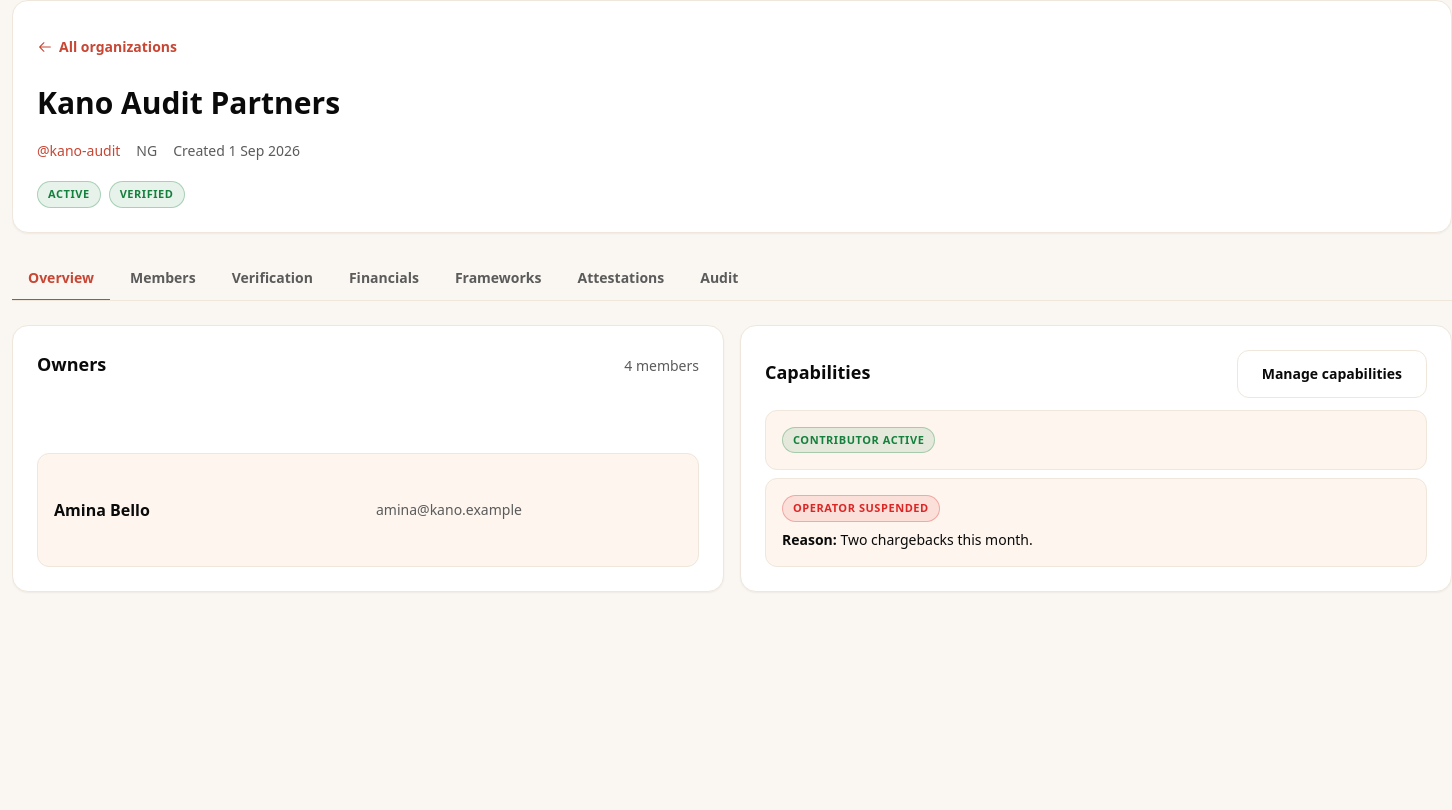
Test: AdminOrganizationDetailPage › lists frameworks with explore links only when published, and licenses
This screenshot has width=1452, height=810.
Check: the heading "Kano Audit Partners" is shown, box top-left (37, 82), bottom-right (340, 123)
Click the tab "Frameworks". click: [498, 278]
box: top-left (439, 256), bottom-right (558, 300)
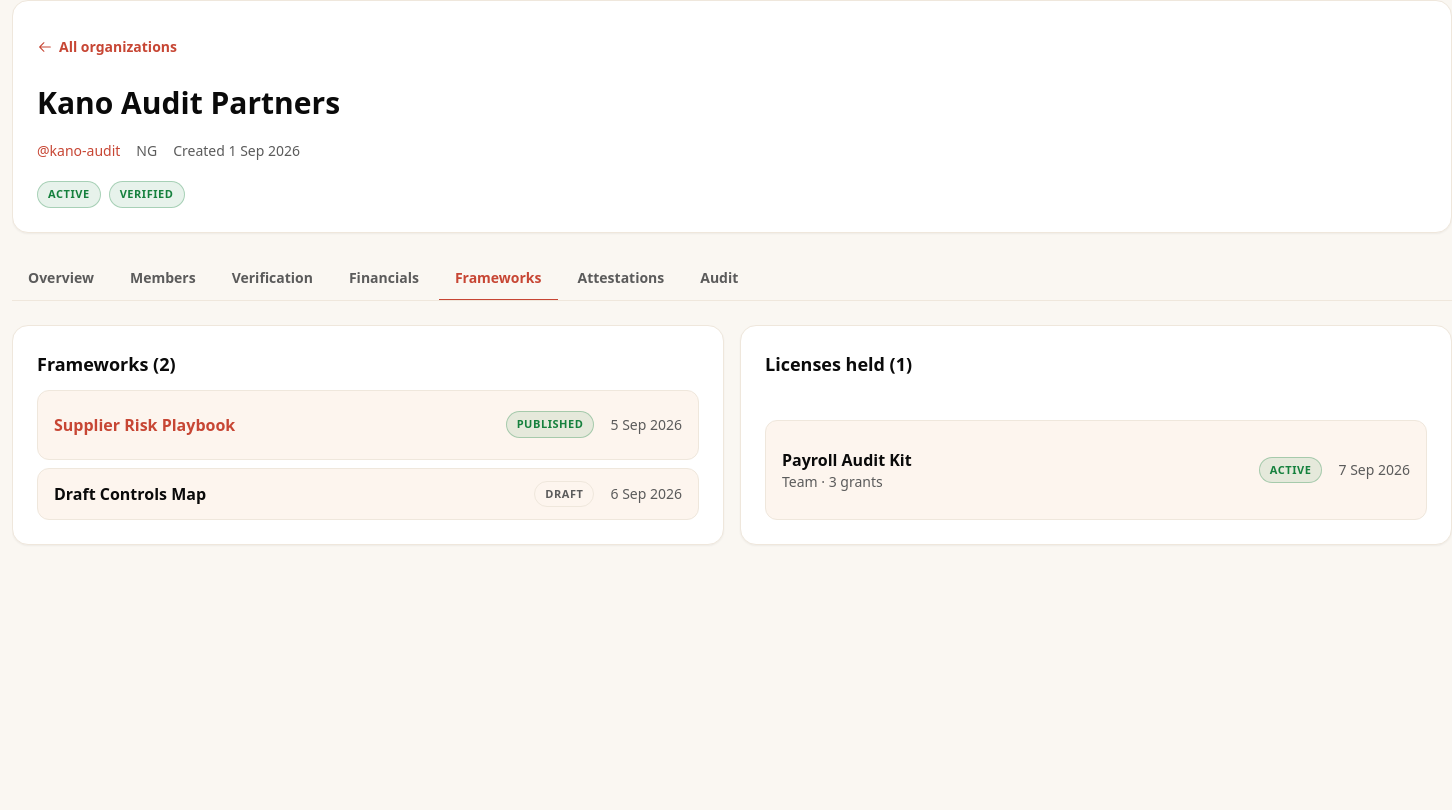
Check: the panel shows "Draft Controls Map", box top-left (54, 483), bottom-right (206, 505)
Check: the panel shows "Payroll Audit Kit", box top-left (782, 449), bottom-right (912, 471)
Check: the panel shows "3 grants", box top-left (12, 324), bottom-right (1451, 545)
